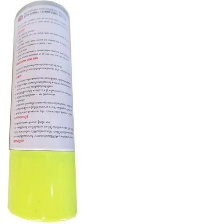aerosol_cans: (4, 0, 80, 223)
